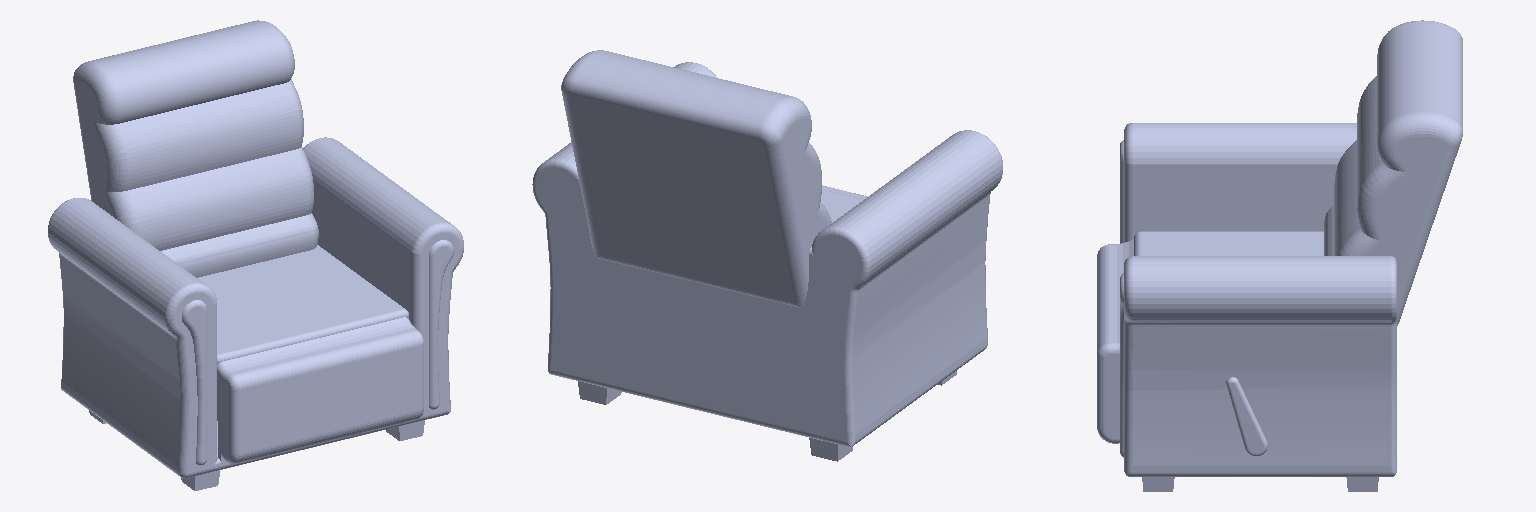
The robot description file, URDF, robot "Lazy-boy recliner":
<robot
  name="Lazy-boy recliner">
  <link
    name="lazy_boy_recliner">
    <inertial>
      <origin
        xyz="0.48331 0.47807 0.40345"
        rpy="0 0 0" />
      <mass
        value="482.89" />
      <inertia
        ixx="74.606204736716"
        ixy="-0.0244532945799859"
        ixz="-0.0391715052439546"
        iyy="84.291052412574"
        iyz="-18.7204405013971"
        izz="88.7409431145285" />
    </inertial>
    <visual>
      <origin
        xyz="0 0 0"
        rpy="1.5707963267949 0 0" />
      <geometry>
        <mesh
          filename="package://lazy_boy_recliner/meshes/lazy_boy_recliner.dae" />
      </geometry>
      <material
        name="">
        <color
          rgba="0.79216 0.81961 0.93333 1" />
      </material>
    </visual>
    <collision>
      <origin
        xyz="0 0 0"
        rpy="1.5707963267949 0 0" />
      <geometry>
        <mesh
          filename="package://lazy_boy_recliner/meshes/lazy_boy_recliner.dae" />
      </geometry>
    </collision>
  </link>
</robot>

--- Facts derived from the render (not from the file) ---
Views: 3 orthographic renders of the robot side by side, from view 1: azimuth 30°, elevation 25°; view 2: azimuth 150°, elevation 25°; view 3: azimuth 270°, elevation 25°.
Robot: Lazy-boy recliner — 1 links, 0 joints (none); root link lazy_boy_recliner; default pose: all joints at 0.
Visible links, largest first — view 1: lazy_boy_recliner; view 2: lazy_boy_recliner; view 3: lazy_boy_recliner.
Boxes of the visible links, box(x1,y1,x2,y2) form: lazy_boy_recliner: box(48, 20, 463, 490); lazy_boy_recliner: box(532, 50, 1002, 461); lazy_boy_recliner: box(1097, 20, 1462, 491).
Size in the robot's own frame: 1.14 by 1.09 by 1.19 metres.
Meshes: 1 distinct files referenced, 1 mesh visuals loaded (1 Collada DAE).
